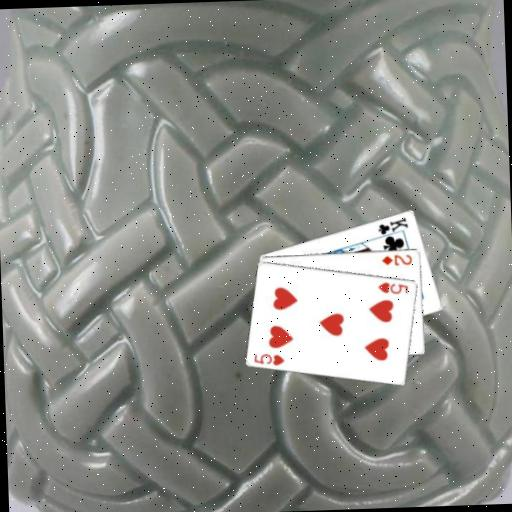2D: (378, 250, 413, 267)
5H: (374, 278, 410, 296), (251, 349, 287, 367)
KC: (373, 214, 409, 240)
